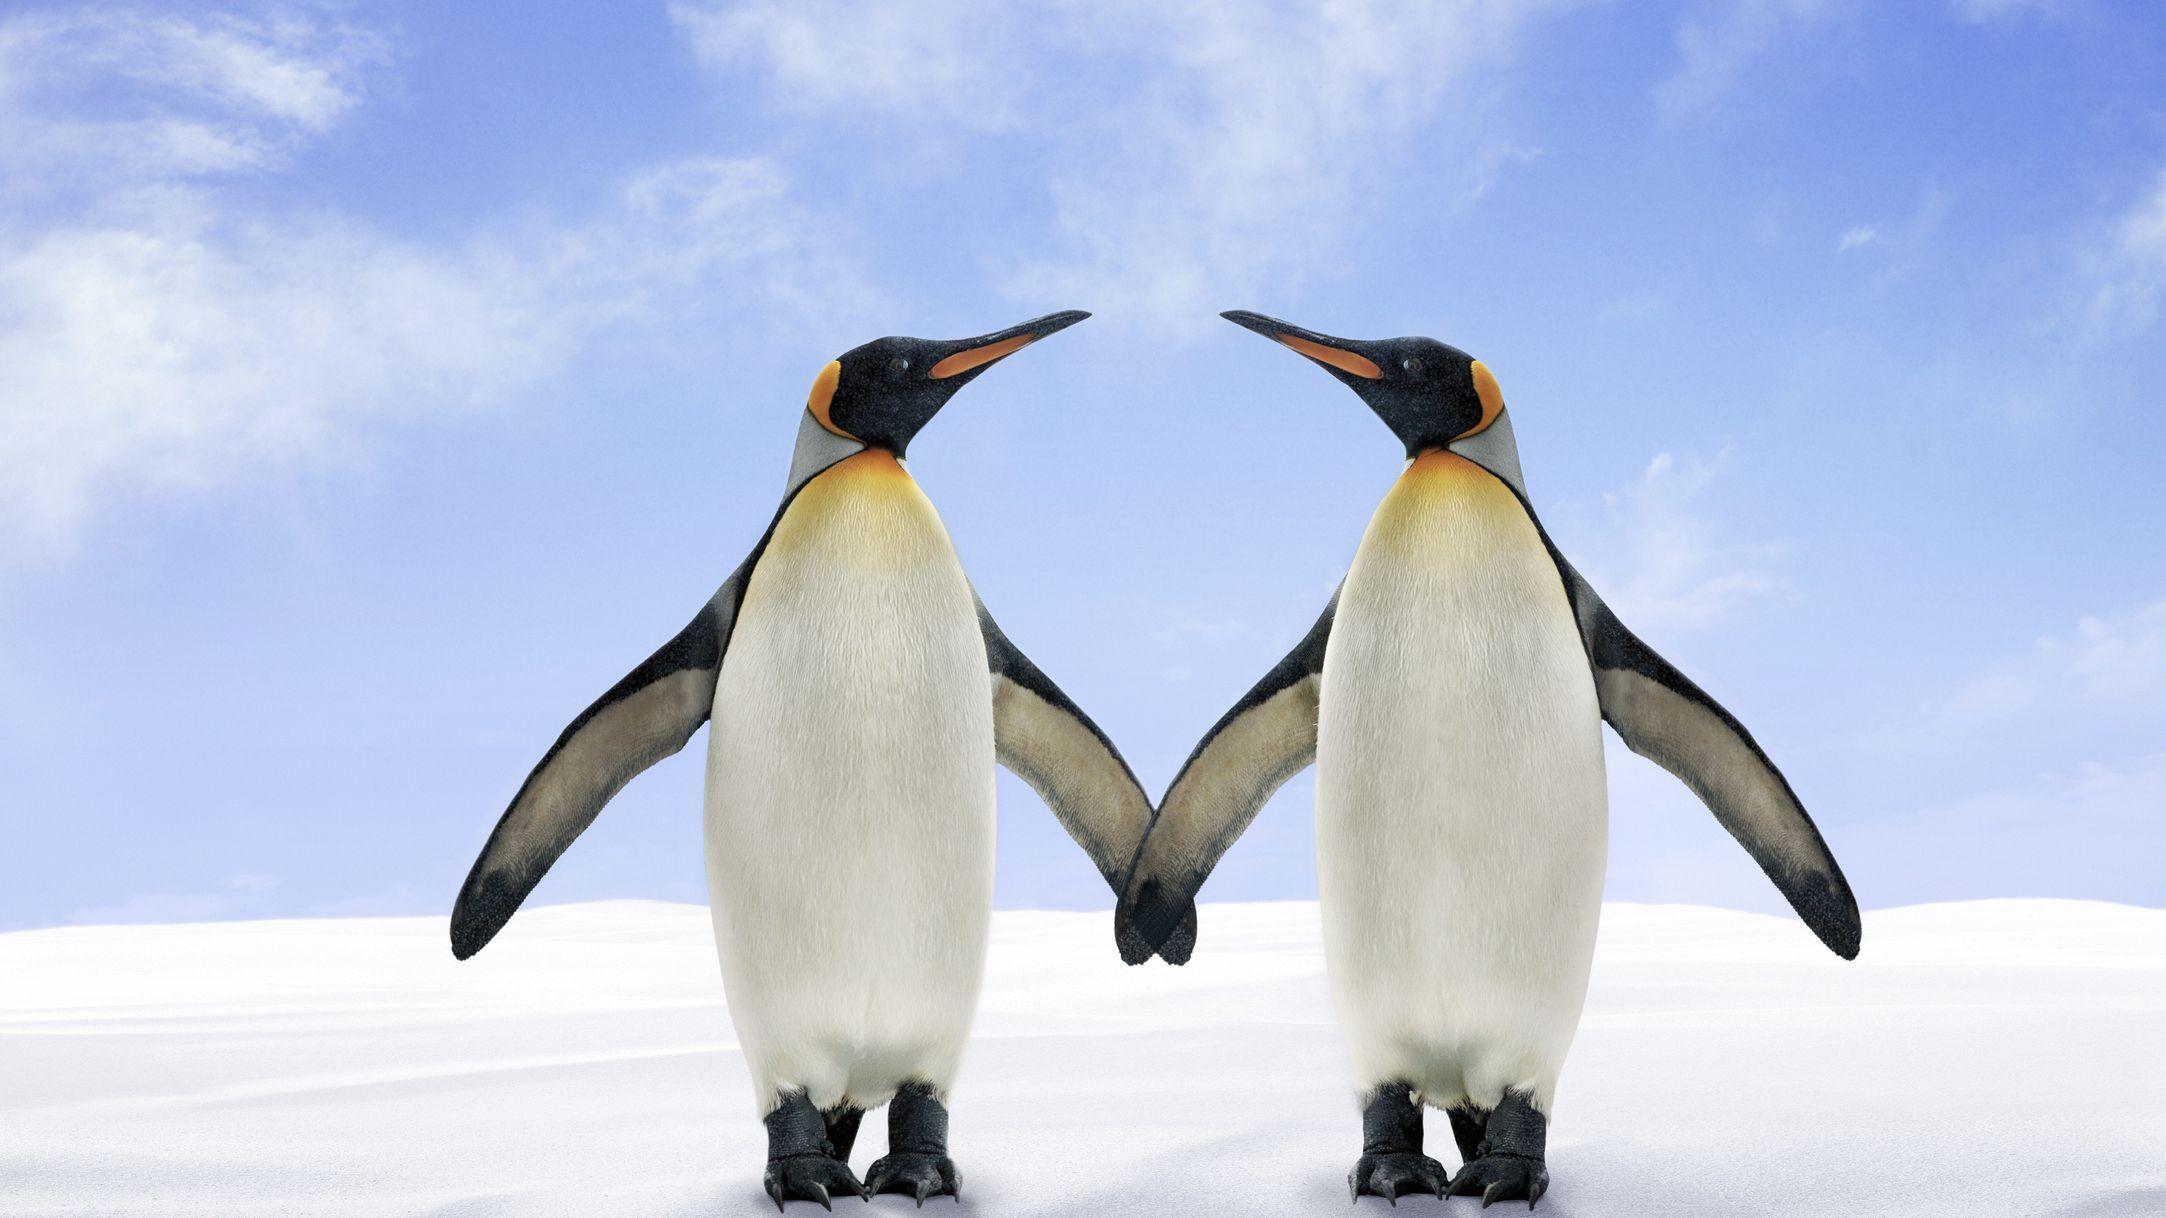king: (455, 213, 1125, 1135), (1175, 254, 1755, 1139)
